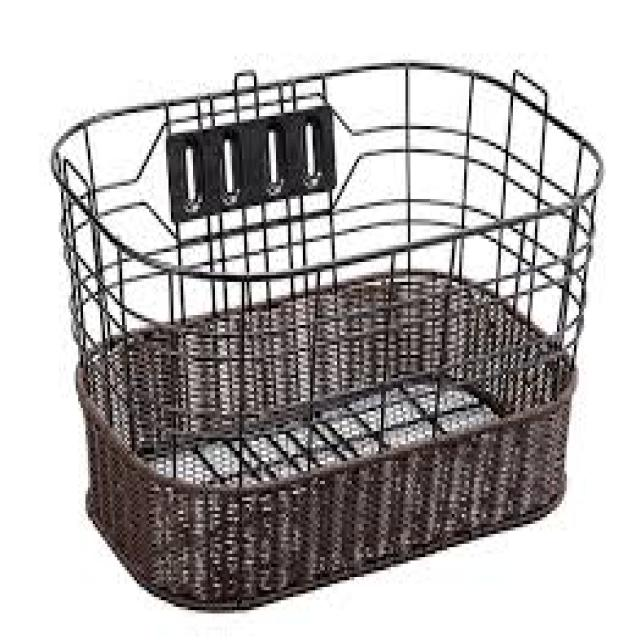basket: (53, 59, 604, 616)
